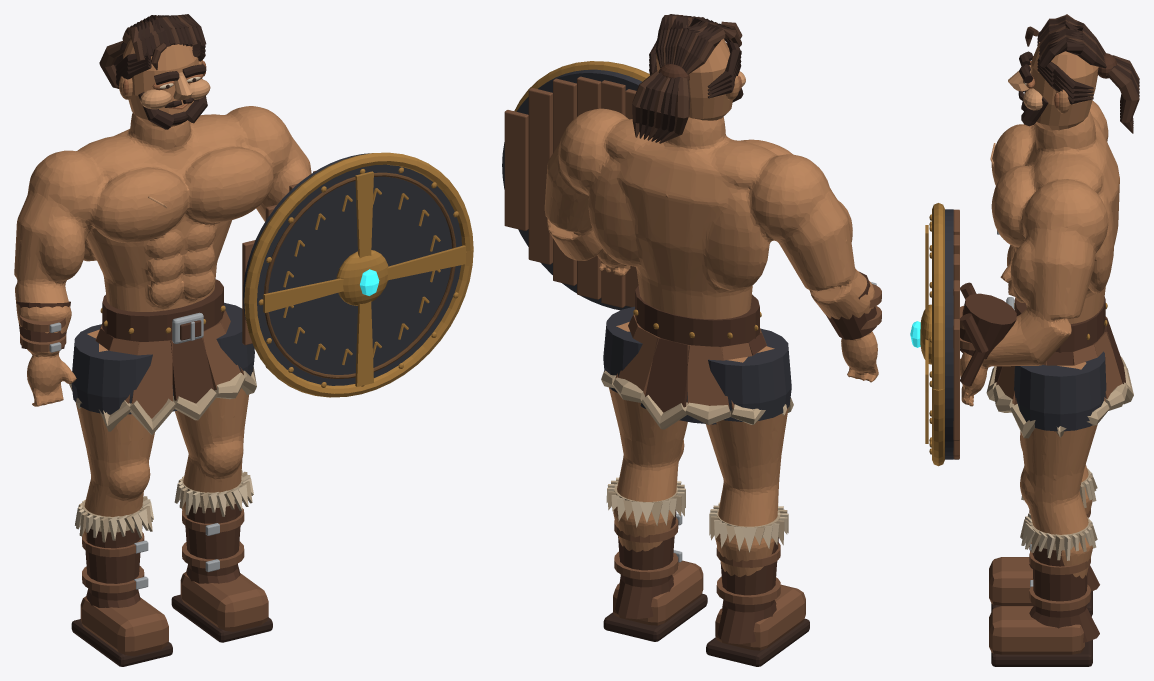
File: hero.glb
3 renders of one model, left to right at view 1: azimuth 30°, elevation 25°; view 2: azimuth 150°, elevation 25°; view 3: azimuth 270°, elevation 25°, orthographic. The views are drawn at different scales.
Parts seen in each view (by area): view 1: Continuous sculpted muscular body, Shield disc, Shield bronze rim, Shorts leg opening, Boot toe, Boot toe.001, Waist belt, Heavy leather boot, Heavy leather boot.001, Shield inner inset, Angular head, Layered leather skirt panel.008 (+14 smaller); view 2: Continuous sculpted muscular body, Shorts leg opening, Shield wooden back plank.007, Waist belt, Heavy leather boot, Heavy leather boot.001, Shield wooden back plank.008, Layered leather skirt panel.003, Angular head, Boot toe, Boot toe.001, Shield wooden back plank.006 (+17 smaller); view 3: Continuous sculpted muscular body, Shorts leg opening.001, Boot toe.001, Shield bronze rim, Heavy leather boot.001, Angular head, Shield disc, Leather bracer.001, Boot toe, Boot sole.001, Waist belt, Shield back arm strap.001 (+16 smaller).
Part boxes in pixels (bbox=[...]): Continuous sculpted muscular body: bbox=[14, 106, 311, 540]; Shield disc: bbox=[243, 153, 461, 385]; Shield bronze rim: bbox=[244, 152, 473, 397]; Shorts leg opening: bbox=[71, 324, 152, 414]; Boot toe: bbox=[80, 596, 168, 656]; Boot toe.001: bbox=[180, 572, 268, 631]; Waist belt: bbox=[102, 279, 223, 341]; Heavy leather boot: bbox=[85, 524, 142, 607]; Heavy leather boot.001: bbox=[185, 501, 242, 583]; Shield inner inset: bbox=[264, 172, 455, 378]; Angular head: bbox=[123, 39, 198, 127]; Layered leather skirt panel.008: bbox=[131, 340, 172, 418]; Continuous sculpted muscular body: bbox=[544, 108, 878, 577]; Shorts leg opening: bbox=[708, 328, 791, 421]; Shield wooden back plank.007: bbox=[528, 88, 552, 264]; Waist belt: bbox=[635, 286, 759, 346]; Heavy leather boot: bbox=[717, 537, 778, 644]; Heavy leather boot.001: bbox=[615, 509, 676, 619]; Shield wooden back plank.008: bbox=[504, 110, 528, 230]; Layered leather skirt panel.003: bbox=[645, 338, 689, 412]; Angular head: bbox=[656, 38, 732, 120]; Boot toe: bbox=[715, 584, 805, 650]; Boot toe.001: bbox=[613, 560, 703, 625]; Shield wooden back plank.006: bbox=[553, 78, 576, 285]; Continuous sculpted muscular body: bbox=[960, 100, 1119, 578]; Shorts leg opening.001: bbox=[1014, 351, 1106, 431]; Boot toe.001: bbox=[989, 606, 1084, 654]; Shield bronze rim: bbox=[932, 203, 944, 466]; Heavy leather boot.001: bbox=[1029, 546, 1099, 642]; Angular head: bbox=[1029, 42, 1098, 130]; Shield disc: bbox=[945, 209, 953, 459]; Leather bracer.001: bbox=[960, 293, 1016, 359]; Boot toe: bbox=[989, 557, 1033, 605]; Boot sole.001: bbox=[991, 640, 1092, 666]; Waist belt: bbox=[1014, 297, 1105, 352]; Shield back arm strap.001: bbox=[960, 313, 988, 386].
Bounding box in the file's own units: 1.3 × 1.84 × 0.632.
